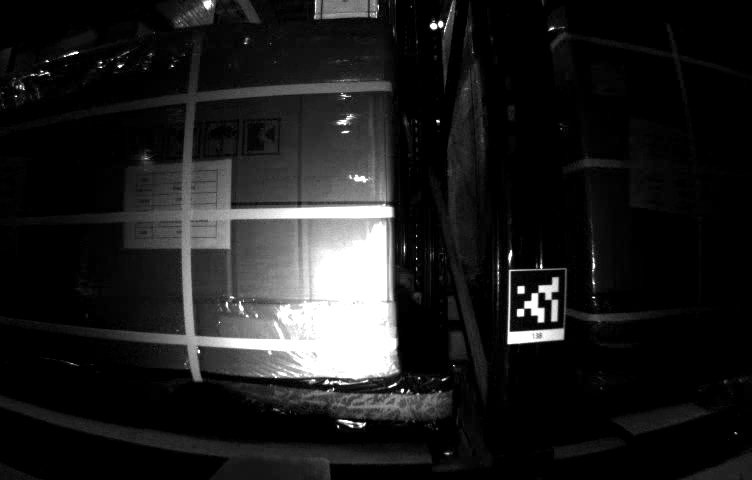True Barcode: (590, 65, 626, 98)
